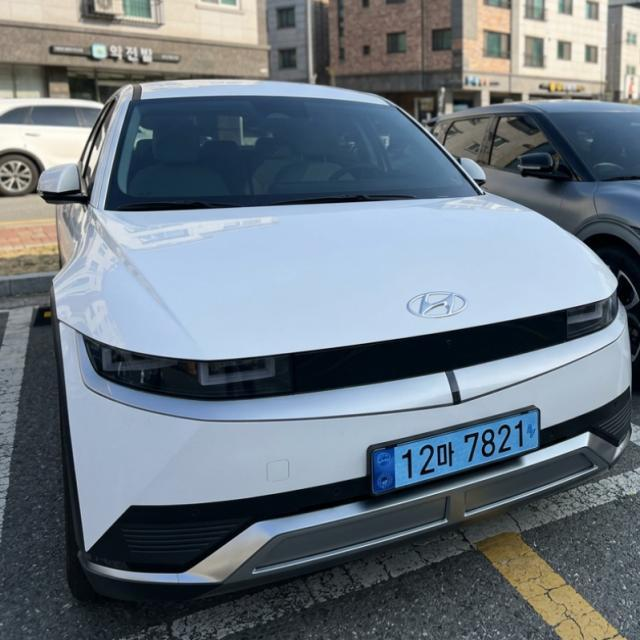car: (360, 399, 545, 504)
carev: (371, 450, 396, 496), (522, 412, 541, 454)
